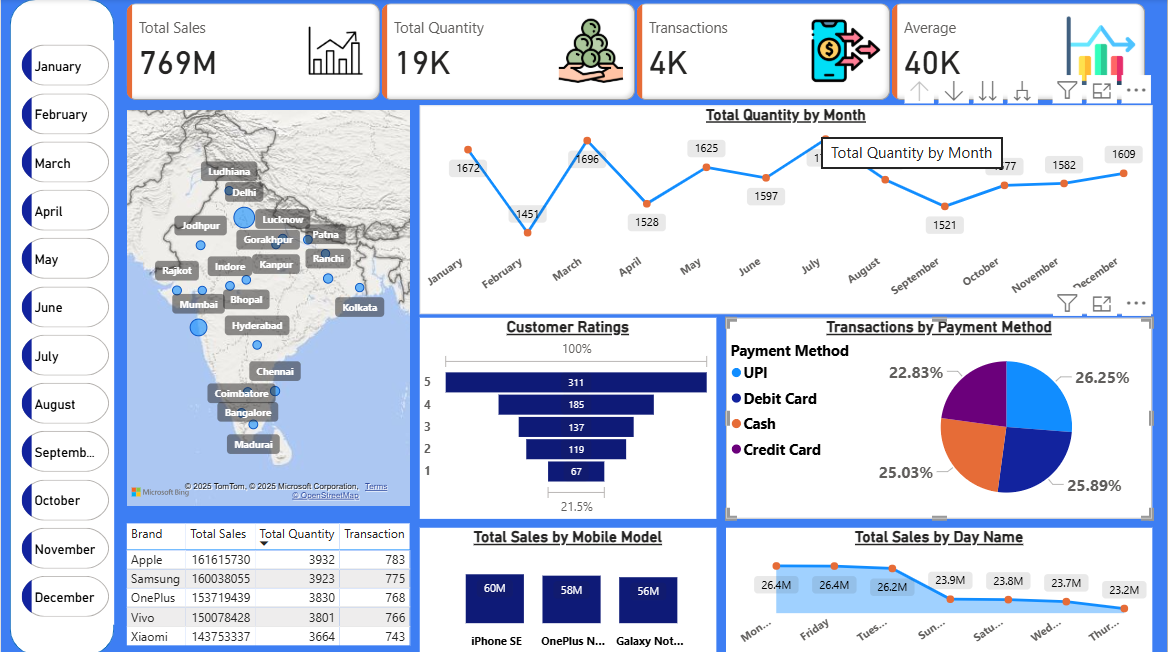

The dashboard page shown, as its layout file describes it:
{"tool":"powerbi","page":{"name":"Page 1","canvas":[1280,720],"ordinal":0},"visuals":[{"type":"shape","box":[9.7,0,114.6,720.2],"z":0},{"type":"advancedSlicerVisual","fields":{"Values":["Sales_data.Date.Variation.Date Hierarchy.Month"]},"box":[18.1,45.8,106.2,641.8],"z":1000},{"type":"cardVisual","fields":{"Data":["Sales_data.Total Sales","Sales_data.Total Quantity","Sales_data.Transactions","Sales_data.Average"]},"box":[133.1,0,1130.7,116.6],"z":2000},{"type":"map","fields":{"Category":["Sales_data.City"],"Size":["Sales_data.Total Sales"]},"box":[133.1,116.6,321.1,444.6],"z":3000},{"type":"lineChart","fields":{"Y":["Sales_data.Total Quantity"],"Category":["Sales_data.Date.Variation.Date Hierarchy.Month","Sales_data.Date.Variation.Date Hierarchy.Day"]},"box":[459.7,116.6,804.1,229.2],"z":4000},{"type":"columnChart","fields":{"Category":["Sales_data.Mobile Model"],"Y":["Sales_data.Total Sales"]},"box":[459.7,580.4,325.2,140],"z":5000},{"type":"pieChart","fields":{"Category":["Sales_data.Payment Method"],"Y":["Sales_data.Transactions"]},"box":[795.9,349.9,467.9,220.9],"z":6000},{"type":"funnel","title":"Customer Ratings ","fields":{"Category":["Sales_data.Customer Ratings"],"Y":["CountNonNull(Sales_data.Customer Ratings)"]},"box":[459.7,349.9,325.2,220.9],"z":7000},{"type":"areaChart","title":"Total Sales by Day Name","fields":{"Y":["Sales_data.Total Sales"],"Category":["Sales_data.Day Name"]},"box":[795.9,580.4,467.9,140],"z":8000},{"type":"tableEx","fields":{"Values":["Sales_data.Brand","Sales_data.Total Sales","Sales_data.Total Quantity","CountNonNull(Sales_data.Transaction ID)"]},"box":[131.7,570.8,322.5,149.6],"z":9000}]}

Visuals, with their boxes in screenshot pixels (x1, y1, x2, y2), scaled from the page's 1280x720 canvas onto the 1168x652 screenshot:
shape: {"x1": 9, "y1": 0, "x2": 113, "y2": 651}
advancedSlicerVisual - Sales_data.Date.Variation.Date Hierarchy.Month: {"x1": 17, "y1": 41, "x2": 113, "y2": 623}
cardVisual - Sales_data.Total Sales x Sales_data.Total Quantity: {"x1": 121, "y1": 0, "x2": 1153, "y2": 106}
map - Sales_data.City x Sales_data.Total Sales: {"x1": 121, "y1": 106, "x2": 414, "y2": 508}
lineChart - Sales_data.Total Quantity x Sales_data.Date.Variation.Date Hierarchy.Month: {"x1": 419, "y1": 106, "x2": 1153, "y2": 313}
columnChart - Sales_data.Mobile Model x Sales_data.Total Sales: {"x1": 419, "y1": 526, "x2": 716, "y2": 651}
pieChart - Sales_data.Payment Method x Sales_data.Transactions: {"x1": 726, "y1": 317, "x2": 1153, "y2": 517}
"Customer Ratings " funnel: {"x1": 419, "y1": 317, "x2": 716, "y2": 517}
"Total Sales by Day Name" areaChart: {"x1": 726, "y1": 526, "x2": 1153, "y2": 651}
tableEx - Sales_data.Brand x Sales_data.Total Sales: {"x1": 120, "y1": 517, "x2": 414, "y2": 651}
